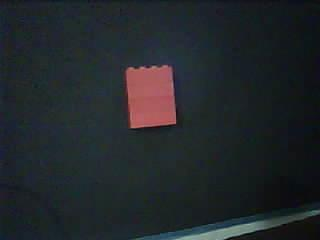lego: (122, 62, 179, 131)
